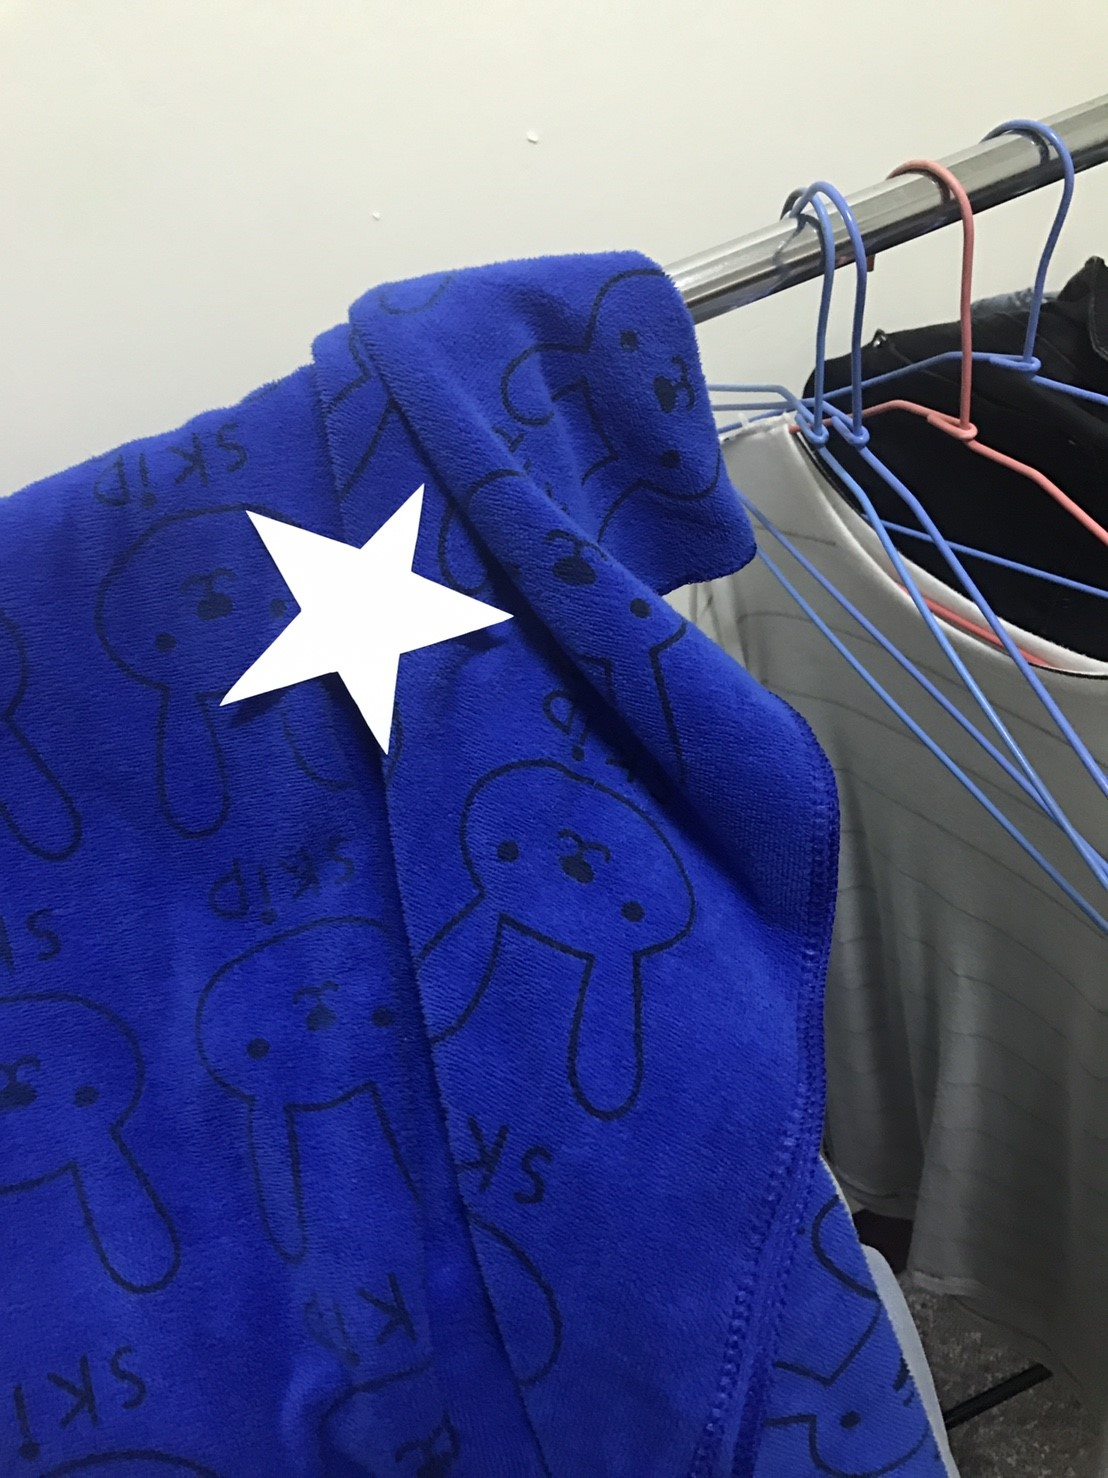star: (212, 464, 523, 762)
